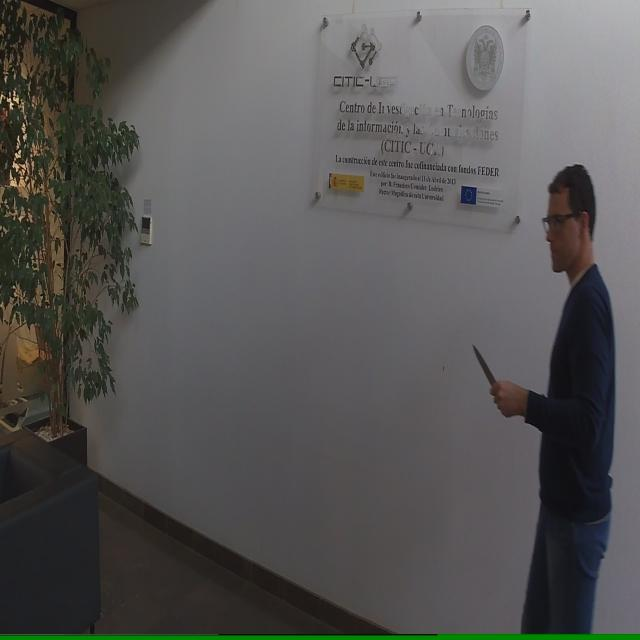knife: (470, 338, 510, 421)
